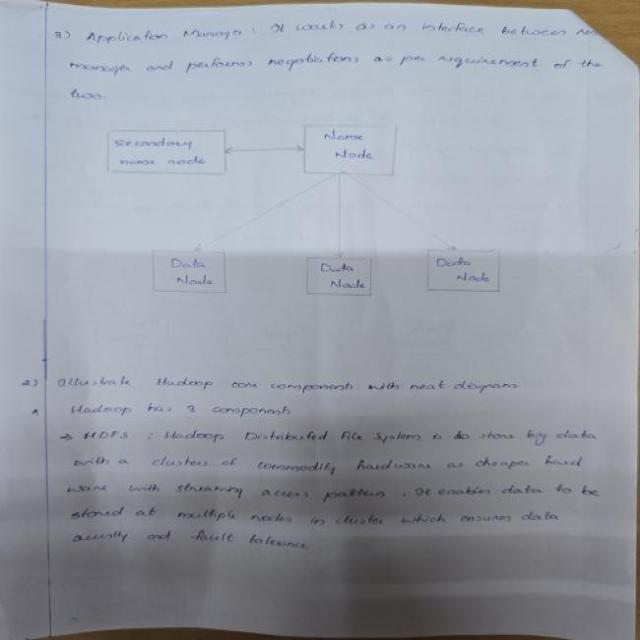Figure Detection - v3 Dataset Version2: (88, 113, 516, 327)
